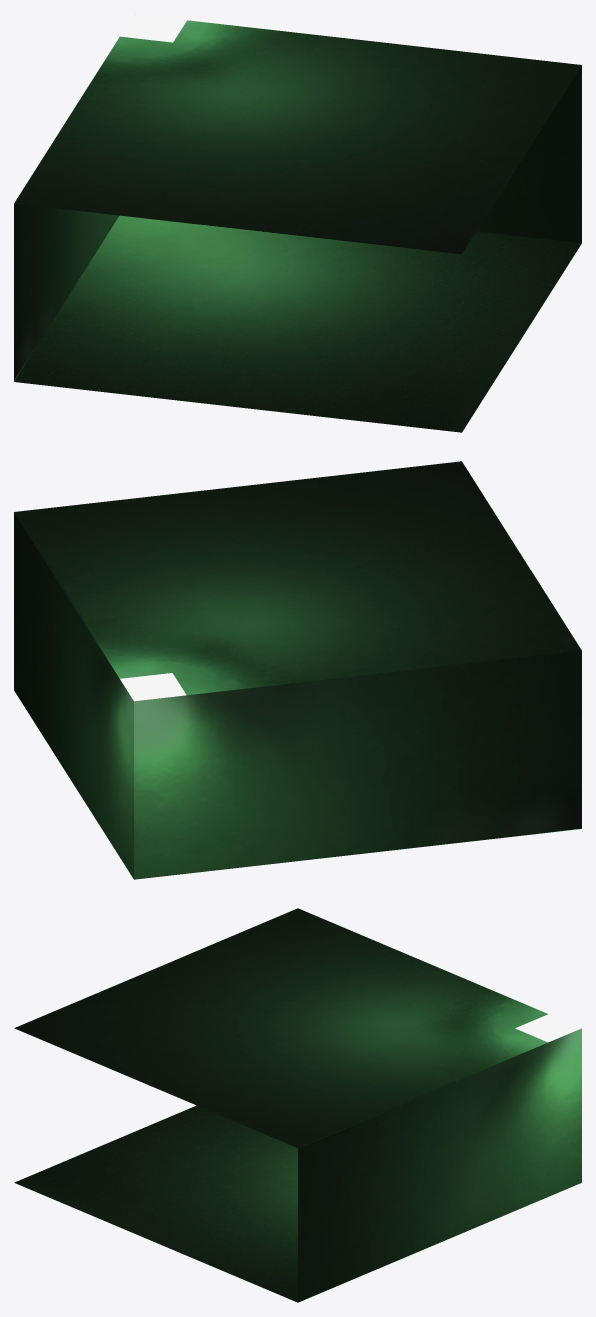
The model's file is otsuka_kv_export.glb.
3 renders of one model, top to bottom at view 1: azimuth 30°, elevation 25°; view 2: azimuth 150°, elevation 25°; view 3: azimuth 270°, elevation 25°, orthographic. The views are drawn at different scales.
Visible parts, largest first — view 1: Cube; view 2: Cube; view 3: Cube.
Boxes of the visible parts, x1,y1,x2,y2 form: Cube: (14,14,581,432); Cube: (14,461,581,879); Cube: (14,908,581,1302).
Size of the model in its own units: 0.9946 by 0.2984 by 0.9946.
Materials: 2 (1 with a texture image).
